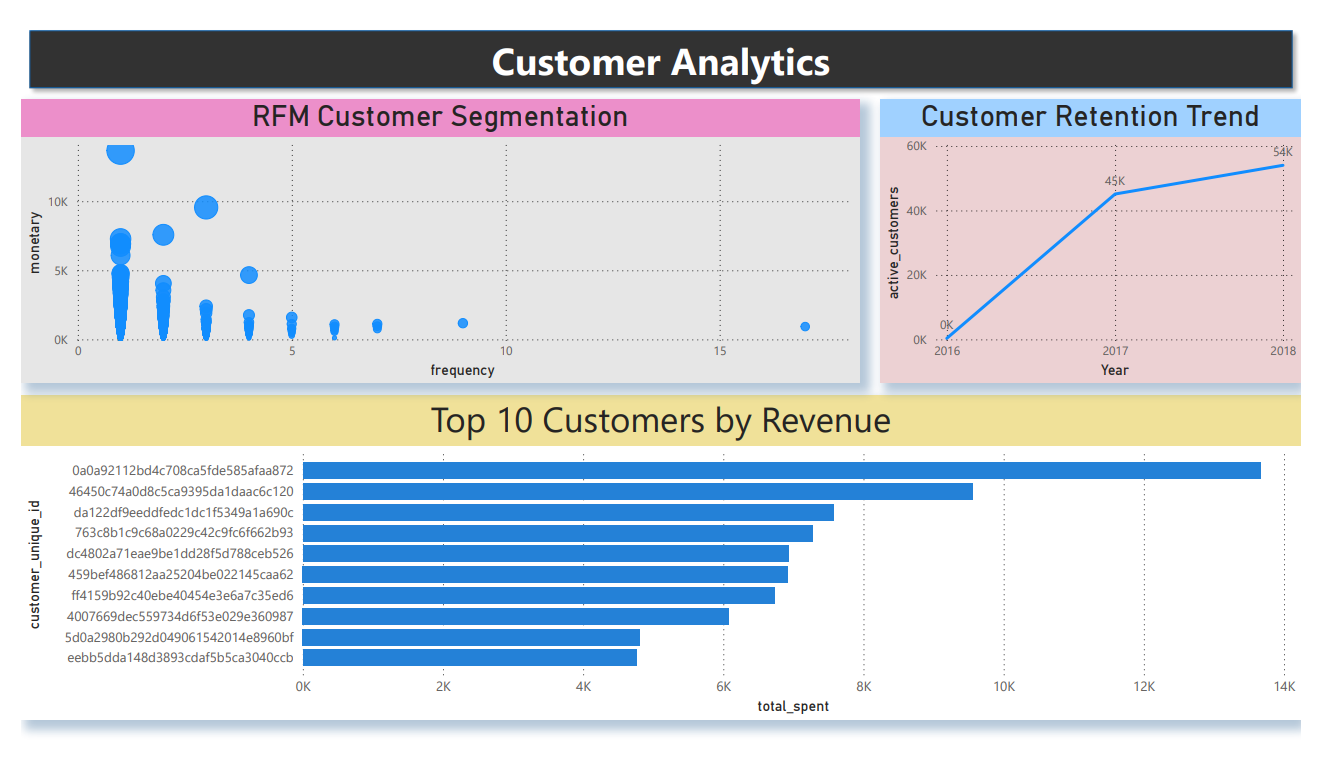

This screenshot's page, from the dashboard's own definition file:
{"tool":"powerbi","page":{"name":"Customer Analytics","canvas":[1280,720],"ordinal":1},"visuals":[{"type":"clusteredBarChart","title":"Top 10 Customers by Revenue","fields":{"Category":["top_customers.customer_unique_id"],"Y":["Sum(top_customers.total_spent)"]},"box":[0,373.1,1280,325.3],"z":0},{"type":"scatterChart","title":"RFM Customer Segmentation","fields":{"X":["Sum(rfm_analysis.frequency)"],"Y":["Sum(rfm_analysis.monetary)"],"Size":["Sum(rfm_analysis.monetary)"],"Category":["rfm_analysis.customer_unique_id"]},"box":[0,76.6,839.1,283.9],"z":1000},{"type":"lineChart","title":"Customer Retention Trend","fields":{"Category":["customer_retention_analysis.order_month.Variation.Date Hierarchy.Year","customer_retention_analysis.order_month.Variation.Date Hierarchy.Quarter","customer_retention_analysis.order_month.Variation.Date Hierarchy.Month","customer_retention_analysis.order_month.Variation.Date Hierarchy.Day"],"Y":["Sum(customer_retention_analysis.active_customers)"]},"box":[859.2,76.6,420.8,283.9],"z":2000},{"type":"shape","box":[0,0,1280,75.4],"z":3000}]}

Visuals, with their boxes in screenshot pixels (x1, y1, x2, y2), scaled from the page's 1280x720 canvas onto the 1321x757 screenshot:
"Top 10 Customers by Revenue" clusteredBarChart: select_region(0, 392, 1320, 734)
"RFM Customer Segmentation" scatterChart: select_region(0, 81, 866, 379)
"Customer Retention Trend" lineChart: select_region(887, 81, 1320, 379)
shape: select_region(0, 0, 1320, 79)
